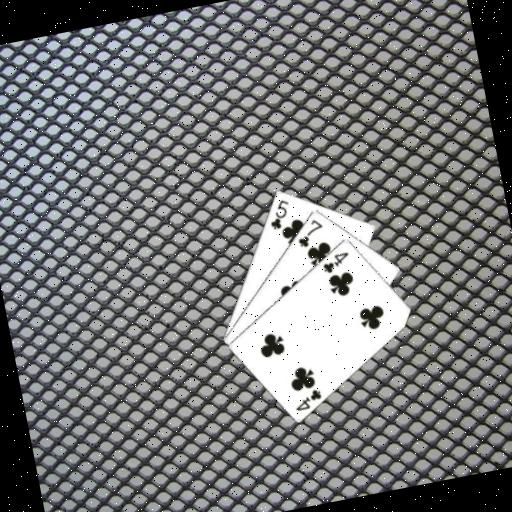4C: (289, 385, 325, 414), (318, 248, 354, 276)
5C: (263, 195, 295, 232)
7C: (291, 215, 328, 251)
